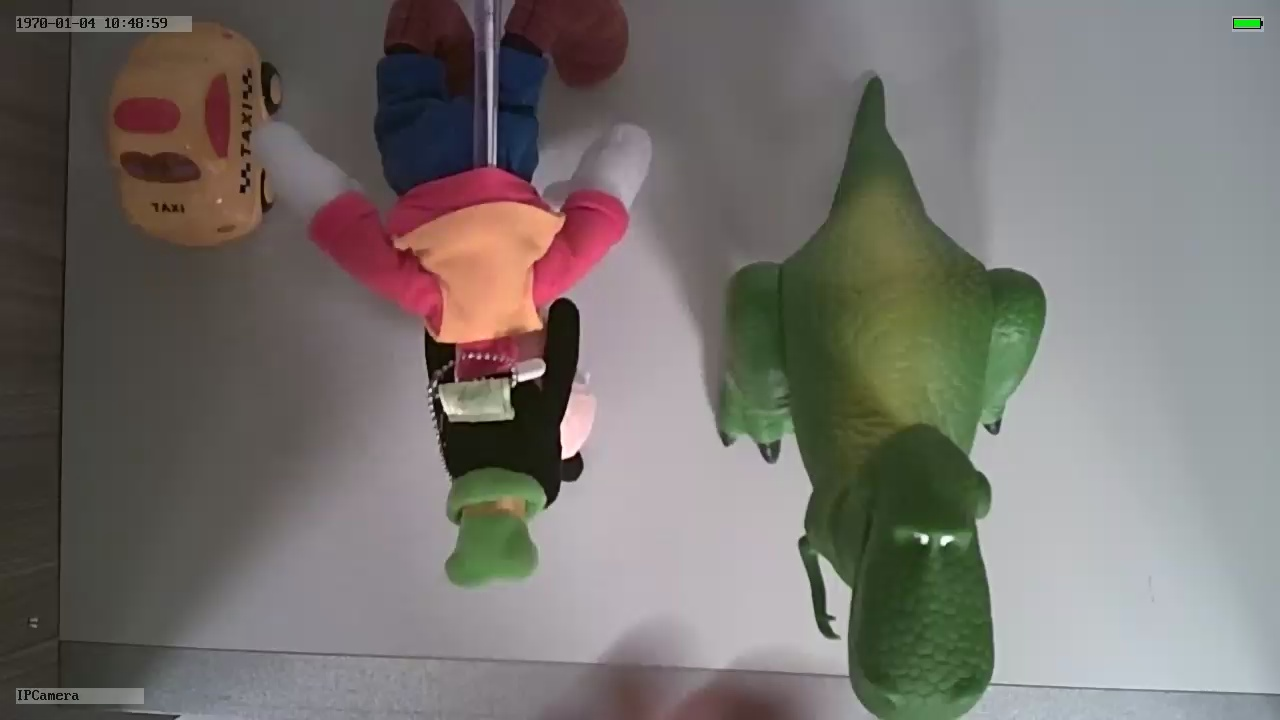car: (106, 21, 280, 241)
goofy: (261, 118, 664, 582)
rex: (718, 160, 1047, 720)
